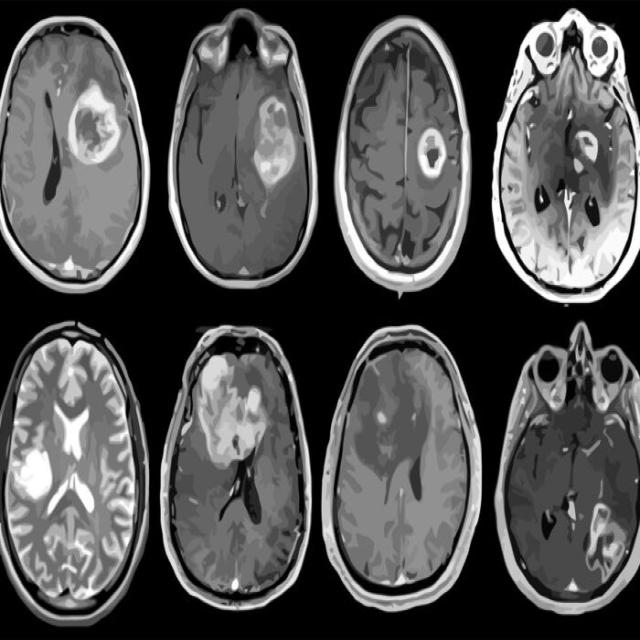Tumor: (198, 355, 258, 463), (68, 87, 120, 161), (584, 503, 628, 580), (256, 99, 297, 181), (20, 446, 53, 501), (420, 128, 445, 172), (577, 126, 601, 163), (375, 406, 391, 426)
